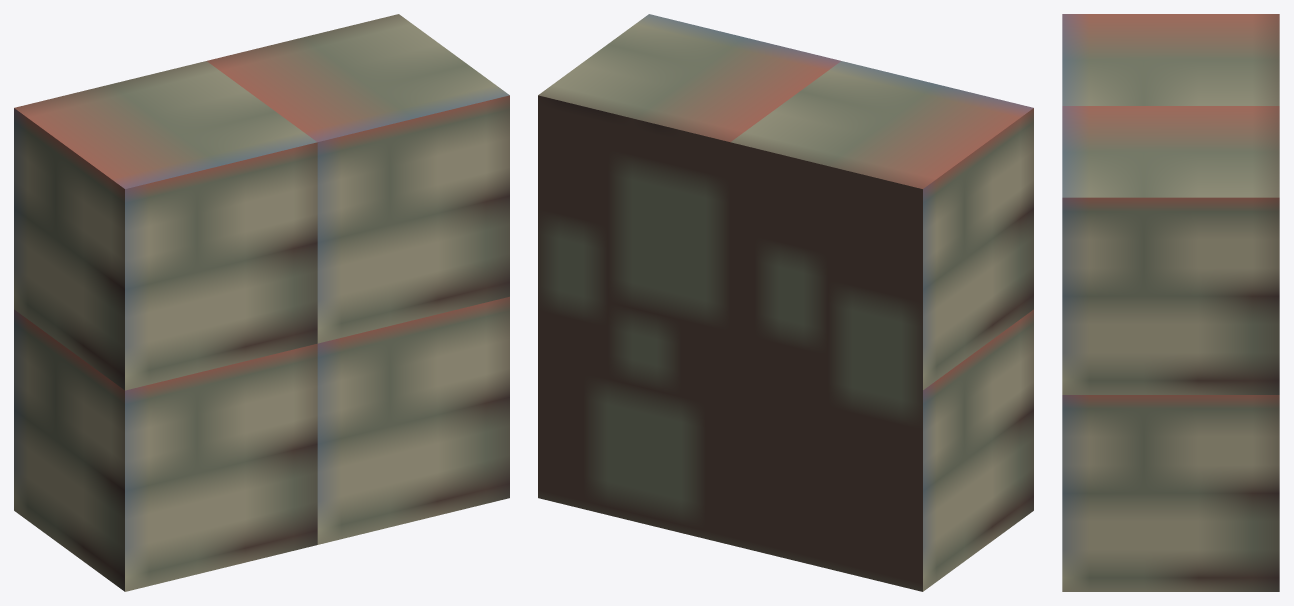
The model's file is destructible_wall.fbx.
The picture shows the model from 3 angles, left to right: view 1: azimuth 30°, elevation 25°; view 2: azimuth 150°, elevation 25°; view 3: azimuth 270°, elevation 25°; orthographic projection. The views are drawn at different scales.
Visible parts, largest first — view 1: Wall1.028; view 2: Wall1.028; view 3: Wall1.028.
Boxes of the visible parts, bbox=[...] form: Wall1.028: bbox=[14, 14, 509, 591]; Wall1.028: bbox=[538, 14, 1033, 591]; Wall1.028: bbox=[1062, 14, 1279, 591].
Bounding box in the file's own units: 200 × 200 × 100.
